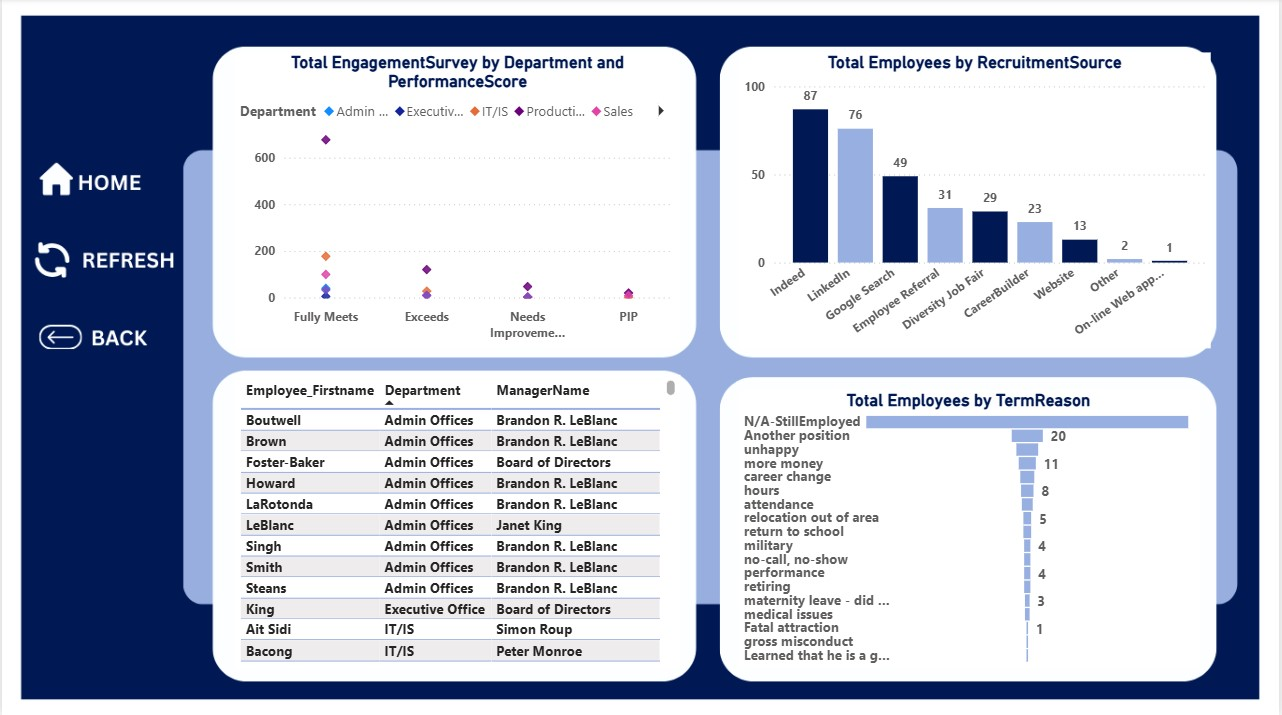

What the dashboard file says about the page in this screenshot:
{"tool":"powerbi","page":{"name":"Page 3","canvas":[1280,720],"ordinal":2},"visuals":[{"type":"scatterChart","title":"Total EngagementSurvey by Department and PerformanceScore","fields":{"X":["HRDataset_v14.PerformanceScore"],"Series":["HRDataset_v14.Department"],"Y":["Sum(HRDataset_v14.EngagementSurvey)"]},"box":[233.7,54.6,446.3,296.6],"z":0},{"type":"columnChart","fields":{"Category":["HRDataset_v14.RecruitmentSource"],"Y":["measures (2).Total Employees"]},"box":[738.7,54.6,472.9,296.6],"z":1000},{"type":"tableEx","fields":{"Values":["HRDataset_v14.Employee_Firstname","HRDataset_v14.Department","HRDataset_v14.ManagerName"]},"box":[233.7,377.8,446.3,293.8],"z":2000},{"type":"funnel","fields":{"Category":["HRDataset_v14.TermReason"],"Y":["measures (2).Total Employees"]},"box":[738.7,393.2,460.3,278.4],"z":3000},{"type":"actionButton","box":[25.2,156.7,159.5,50.4],"z":3001},{"type":"actionButton","box":[25.2,239.2,146.9,50.4],"z":3002},{"type":"actionButton","box":[25.2,309.2,146.9,50.4],"z":3003}]}

Visuals, with their boxes in screenshot pixels (x1, y1, x2, y2), scaled from the page's 1280x720 canvas onto the 1282x715 screenshot:
"Total EngagementSurvey by Department and PerformanceScore" scatterChart: 234,54,681,349
columnChart - HRDataset_v14.RecruitmentSource x measures (2).Total Employees: 740,54,1213,349
tableEx - HRDataset_v14.Employee_Firstname x HRDataset_v14.Department: 234,375,681,667
funnel - HRDataset_v14.TermReason x measures (2).Total Employees: 740,390,1201,667
actionButton: 25,156,185,206
actionButton: 25,238,172,288
actionButton: 25,307,172,357
